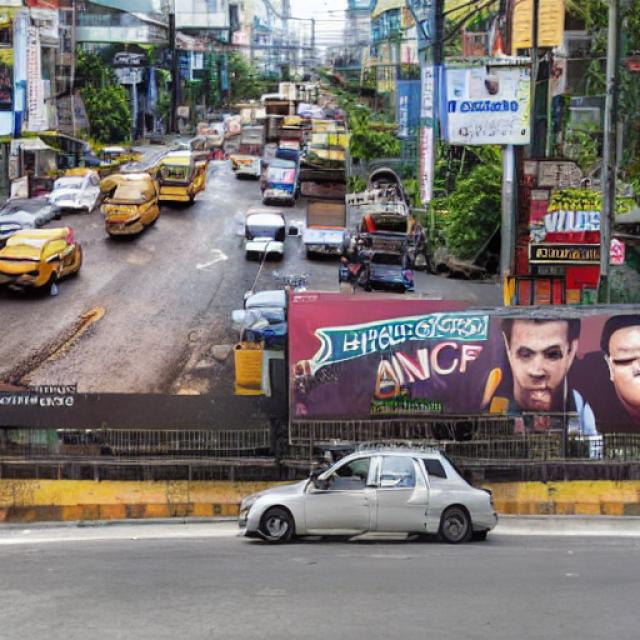Billboard: (285, 293, 640, 429)
